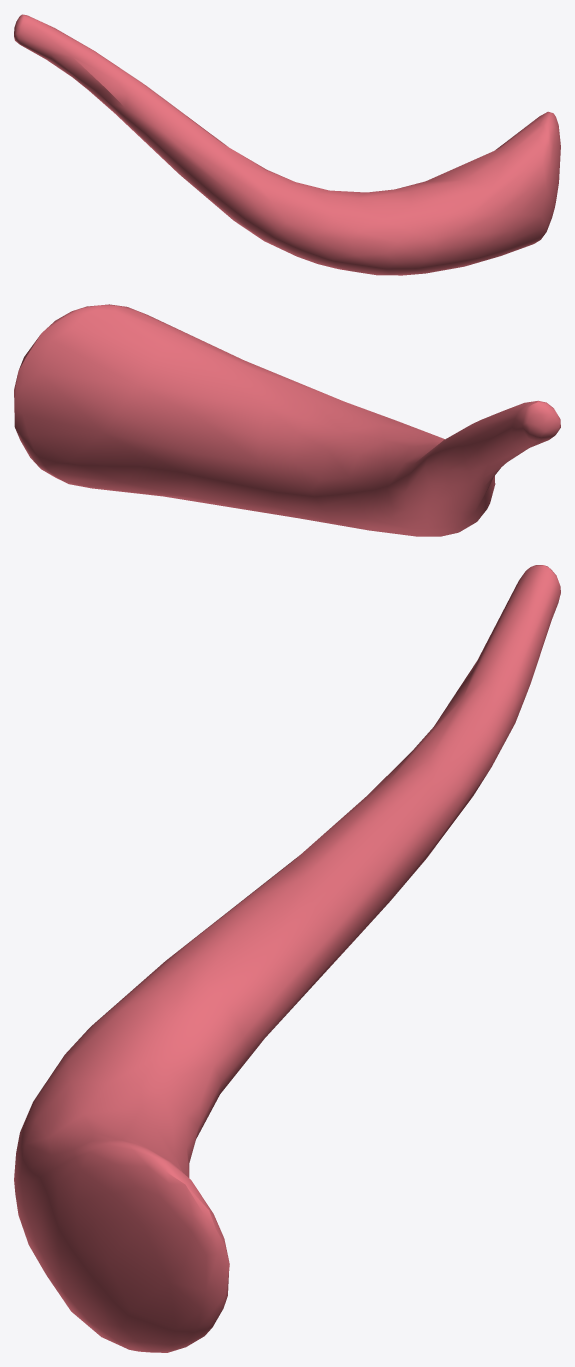
The model's file is fma70486_fj3559.glb.
The picture shows the model from 3 angles, top to bottom: view 1: azimuth 30°, elevation 25°; view 2: azimuth 150°, elevation 25°; view 3: azimuth 270°, elevation 25°; orthographic projection. The views are drawn at different scales.
Parts seen in each view (by area): view 1: FMA70486_FJ3559; view 2: FMA70486_FJ3559; view 3: FMA70486_FJ3559.
Boxes of the visible parts, x1,y1,x2,y2 form: FMA70486_FJ3559: (14, 14, 560, 275); FMA70486_FJ3559: (14, 304, 560, 536); FMA70486_FJ3559: (14, 565, 560, 1352).
Bounding box in the file's own units: 0.0194 × 0.00969 × 0.0112.
